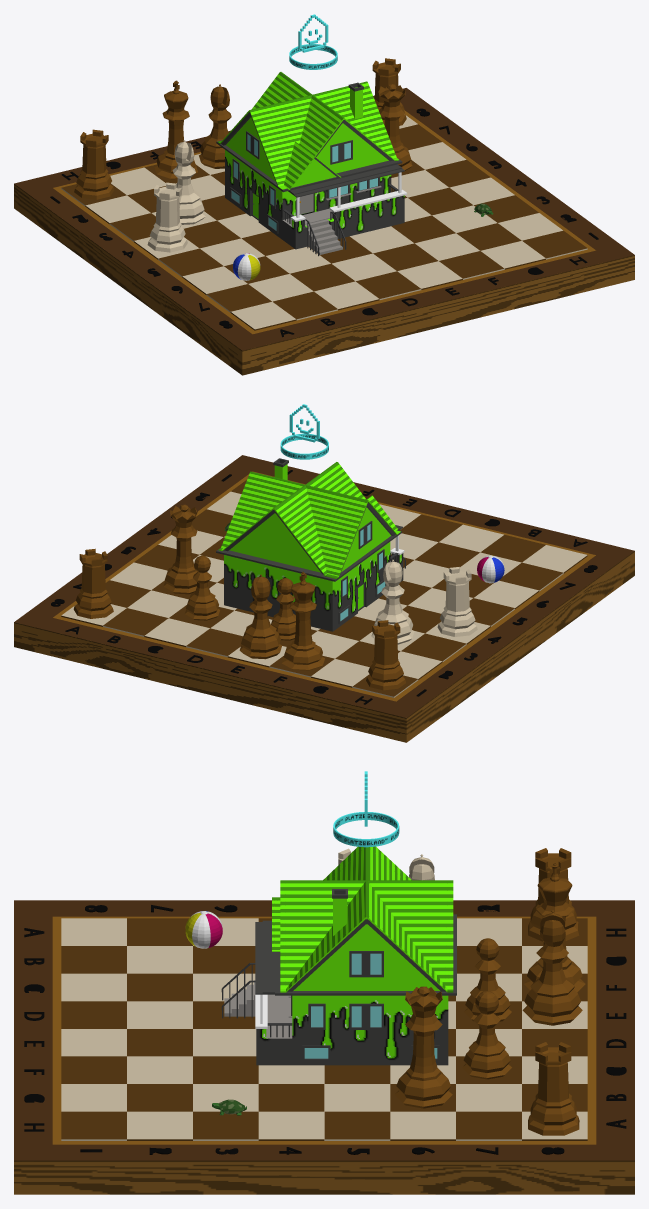
The picture shows the model from 3 angles, top to bottom: view 1: azimuth 30°, elevation 25°; view 2: azimuth 150°, elevation 25°; view 3: azimuth 270°, elevation 25°; orthographic projection. The views are drawn at different scales.
Visible parts, largest first — view 1: Cube.002, Cube.754, TYPE_PREMIUM, OBJRANDOM_BEACHBALL; view 2: Cube.002, Cube.754, TYPE_PREMIUM, OBJRANDOM_BEACHBALL; view 3: Cube.002, Cube.754, TYPE_PREMIUM, OBJRANDOM_BEACHBALL.
Boxes of the visible parts, x1=… form: Cube.002: x1=14, y1=58, x2=634, y2=375; Cube.754: x1=216, y1=72, x2=407, y2=256; TYPE_PREMIUM: x1=289, y1=14, x2=337, y2=69; OBJRANDOM_BEACHBALL: x1=233, y1=253, x2=260, y2=280; Cube.002: x1=14, y1=455, x2=634, y2=742; Cube.754: x1=216, y1=458, x2=405, y2=631; TYPE_PREMIUM: x1=280, y1=404, x2=328, y2=459; OBJRANDOM_BEACHBALL: x1=477, y1=555, x2=504, y2=583; Cube.002: x1=14, y1=848, x2=634, y2=1194; Cube.754: x1=221, y1=846, x2=456, y2=1065; TYPE_PREMIUM: x1=333, y1=771, x2=399, y2=847; OBJRANDOM_BEACHBALL: x1=185, y1=911, x2=222, y2=948.
Bounding box in the file's own units: 3981 × 2279 × 4012.
30 materials, 4 textured.
